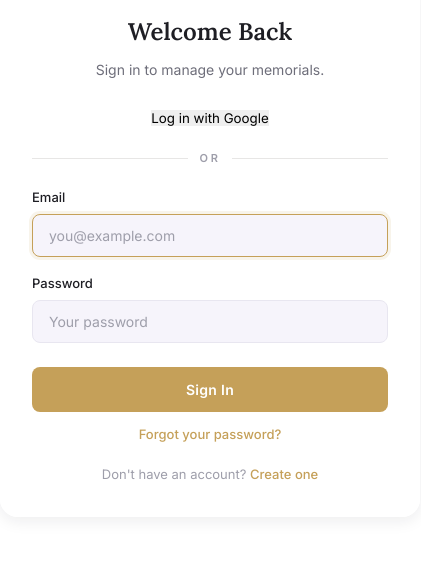
Test case: LoginPage › shows server error on login failure
This screenshot has width=421, height=588.
Type "test@example.com" into the field labelled "Email" at (210, 235), box [32, 214, 388, 257]
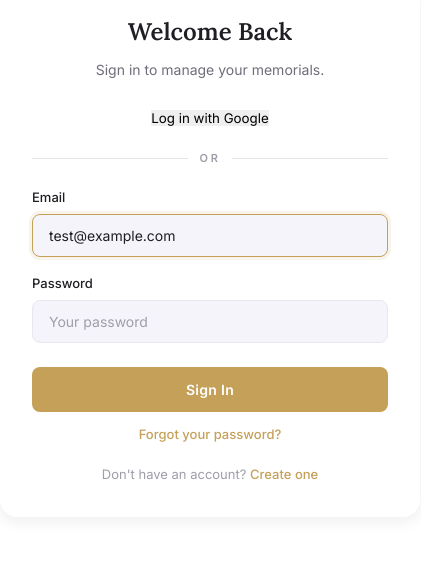
Type "Password123" into the password field labelled "Password" at (210, 321), box [32, 300, 388, 343]
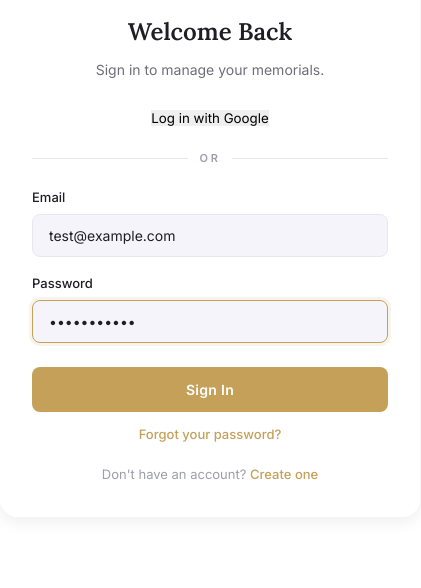
Click the button "Sign In" at (210, 389), box [32, 367, 388, 412]
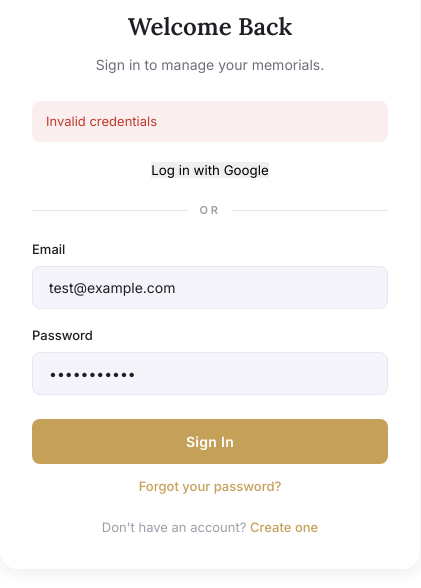
Expected: the text "Invalid credentials" is shown, [32, 101, 388, 142]
